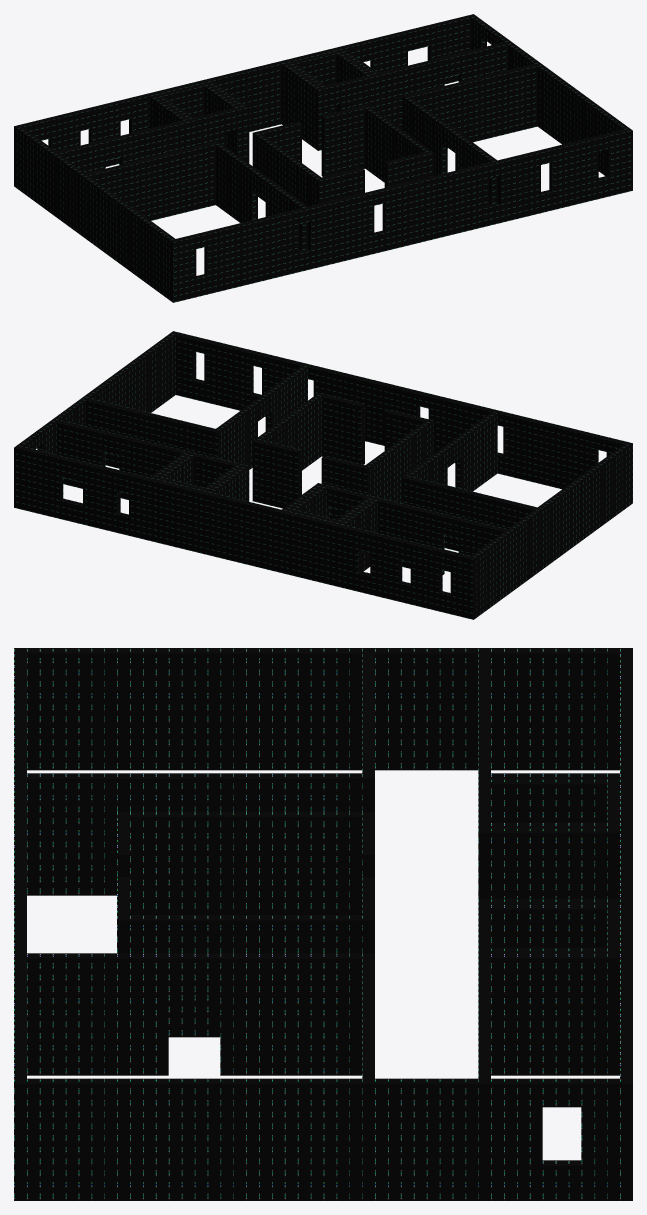
The model's file is convitto_secondopiano_uvs.gltf.
The picture shows the model from 3 angles, top to bottom: view 1: azimuth 30°, elevation 25°; view 2: azimuth 150°, elevation 25°; view 3: azimuth 270°, elevation 25°; orthographic projection. The views are drawn at different scales.
Parts seen in each view (by area): view 1: Layer.1, Layer.16, Layer.2, Layer.15, Layer.9, Layer.6, Layer.12, Layer.3, Layer.10, Layer.11, Layer.4, Layer.5 (+11 smaller); view 2: Layer.16, Layer.1, Layer.2, Layer.6, Layer.10, Layer.15, Layer.12, Layer.11, Layer.5, Layer.9, Layer.3, Layer.4 (+8 smaller); view 3: Layer.6, Layer.2, Layer.4, Layer.7, Layer.3, Layer.14, Layer.8, Layer.21, Layer.1, Layer.16, Layer.25, Layer.18 (+11 smaller).
Part boxes in pixels (x1,y1,x2,y2): Layer.1: (170, 128, 632, 302); Layer.16: (14, 14, 476, 188); Layer.2: (17, 127, 174, 300); Layer.15: (402, 64, 537, 148); Layer.9: (86, 141, 220, 220); Layer.6: (471, 16, 629, 175); Layer.12: (378, 42, 507, 129); Layer.3: (216, 143, 307, 250); Layer.10: (252, 104, 370, 176); Layer.11: (56, 120, 185, 173); Layer.4: (405, 97, 497, 204); Layer.5: (315, 151, 433, 204); Layer.16: (14, 445, 476, 619); Layer.1: (170, 331, 632, 505); Layer.2: (472, 444, 629, 617); Layer.6: (17, 333, 175, 454); Layer.10: (252, 438, 370, 519); Layer.15: (86, 398, 221, 468); Layer.12: (56, 420, 185, 499); Layer.11: (378, 498, 507, 574); Layer.5: (316, 392, 433, 464); Layer.9: (402, 475, 537, 551); Layer.3: (406, 412, 497, 491); Layer.4: (216, 365, 307, 469); Layer.6: (27, 1078, 619, 1200); Layer.2: (27, 648, 619, 770); Layer.4: (27, 953, 362, 1075); Layer.7: (130, 811, 362, 914); Layer.3: (27, 773, 362, 895); Layer.14: (478, 953, 619, 1075); Layer.8: (130, 915, 362, 1037); Layer.21: (491, 828, 607, 898); Layer.1: (14, 648, 26, 1200); Layer.16: (620, 648, 632, 1200); Layer.25: (491, 904, 607, 947); Layer.18: (491, 779, 607, 822).
Bounding box in the file's own units: 80 × 10 × 48.
1 material, 1 textured.
